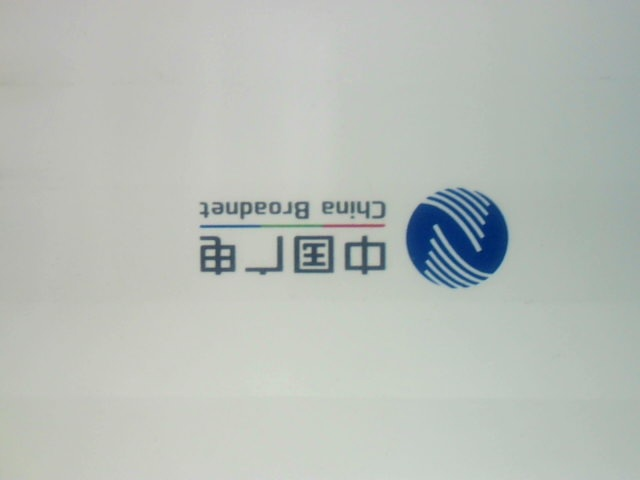AW_ChinaBroadNet: (179, 181, 521, 310)
